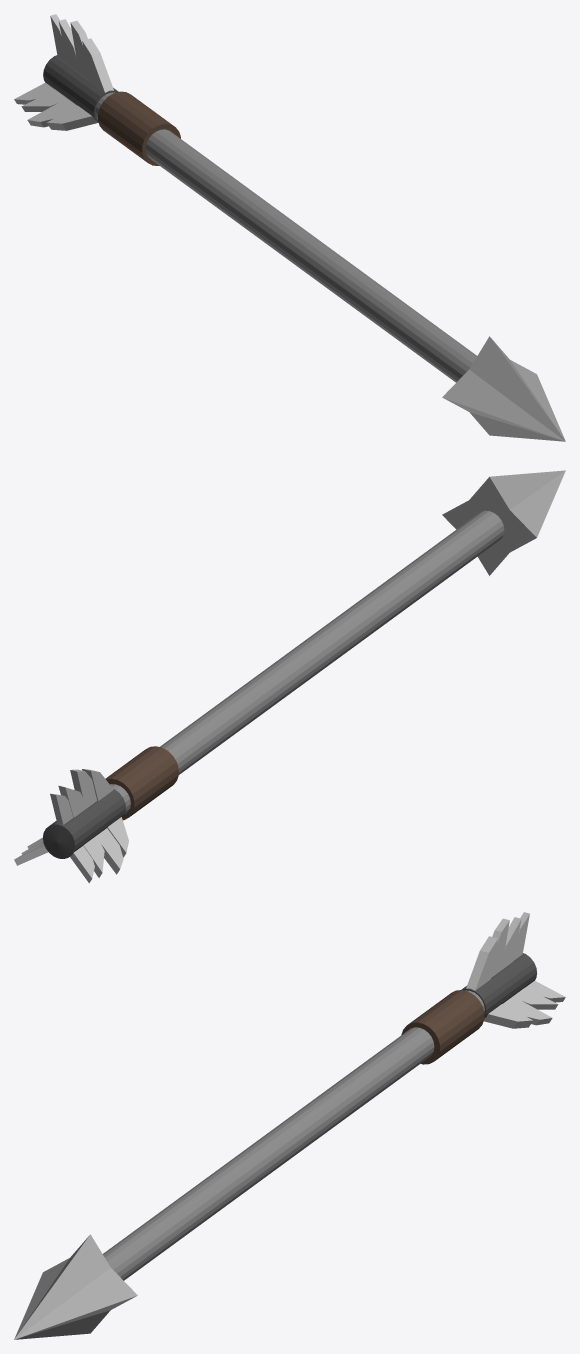
File: Arrow_2.fbx
3 renders of one model, top to bottom at view 1: azimuth 30°, elevation 25°; view 2: azimuth 150°, elevation 25°; view 3: azimuth 330°, elevation 25°, orthographic.
Visible parts, largest first — view 1: polySurface313; view 2: polySurface313; view 3: polySurface313.
Part boxes in pixels (x1,y1,x2,y2): polySurface313: (14, 14, 565, 441); polySurface313: (14, 470, 565, 883); polySurface313: (14, 912, 565, 1339).
Bounding box in the file's own units: 0.1186 × 0.131 × 1.11.
